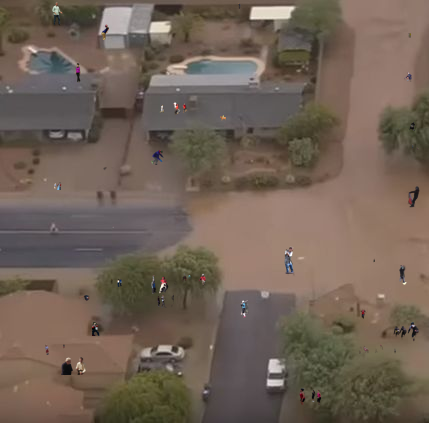Human: (393, 322, 419, 343), (181, 273, 208, 292), (151, 275, 178, 294), (291, 388, 321, 405), (61, 357, 89, 375), (141, 293, 174, 308), (159, 101, 192, 115), (402, 186, 420, 209), (358, 344, 396, 354), (284, 246, 296, 277), (74, 294, 91, 310), (45, 344, 69, 355), (52, 2, 63, 26), (151, 150, 165, 165), (92, 322, 104, 336), (240, 300, 249, 318), (399, 265, 407, 285), (101, 24, 109, 40), (75, 63, 81, 83), (111, 278, 122, 287), (404, 72, 412, 82), (360, 308, 367, 319), (57, 182, 66, 190), (103, 166, 114, 171), (409, 122, 415, 131), (412, 144, 421, 150), (220, 115, 226, 121), (238, 3, 242, 9), (408, 33, 411, 38), (111, 226, 114, 230), (54, 183, 56, 189), (373, 258, 375, 263)
